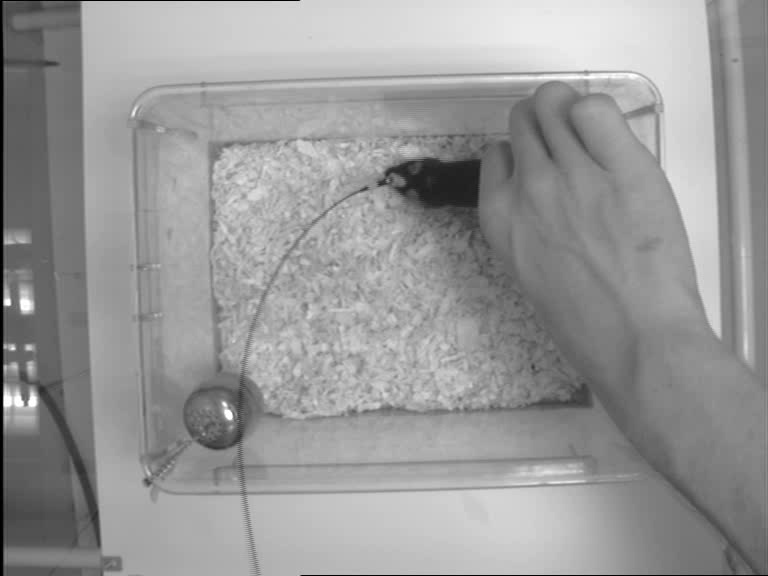mice: (376, 155, 485, 209)
